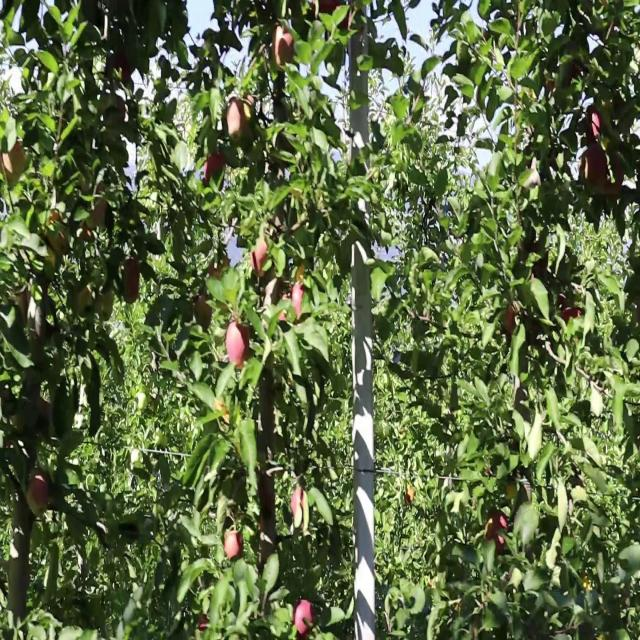apple: (228, 319, 253, 370), (580, 149, 608, 192), (228, 99, 255, 140), (484, 511, 509, 555), (272, 28, 296, 69), (268, 277, 289, 322), (4, 142, 27, 183), (604, 156, 624, 201), (88, 184, 108, 228), (204, 149, 227, 187), (28, 476, 51, 514), (584, 106, 604, 148), (48, 213, 67, 254), (252, 241, 270, 281), (124, 263, 141, 304), (108, 56, 132, 85), (296, 604, 315, 638), (196, 291, 213, 329), (268, 277, 287, 311), (560, 298, 582, 325), (208, 255, 229, 283), (224, 533, 244, 562), (292, 284, 306, 324), (504, 305, 518, 336), (292, 490, 306, 519), (76, 291, 92, 313), (216, 405, 232, 425), (320, 0, 339, 16), (340, 7, 352, 30), (296, 263, 306, 284), (80, 227, 93, 242), (408, 483, 416, 505), (508, 483, 518, 500), (120, 106, 128, 123)
